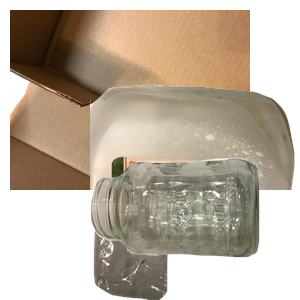cardboard: (10, 10, 250, 190)
glass: (88, 156, 300, 300)
plastic: (90, 82, 300, 262)
trash: (70, 120, 256, 300)
